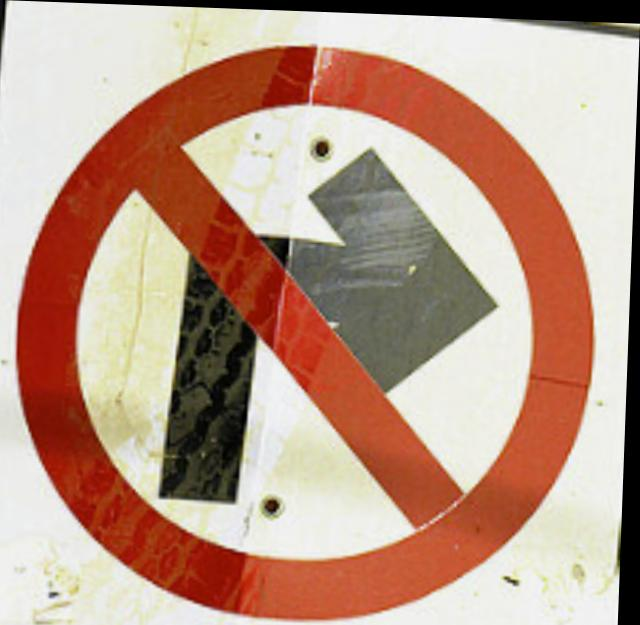not_turn_right: (14, 33, 606, 625)
